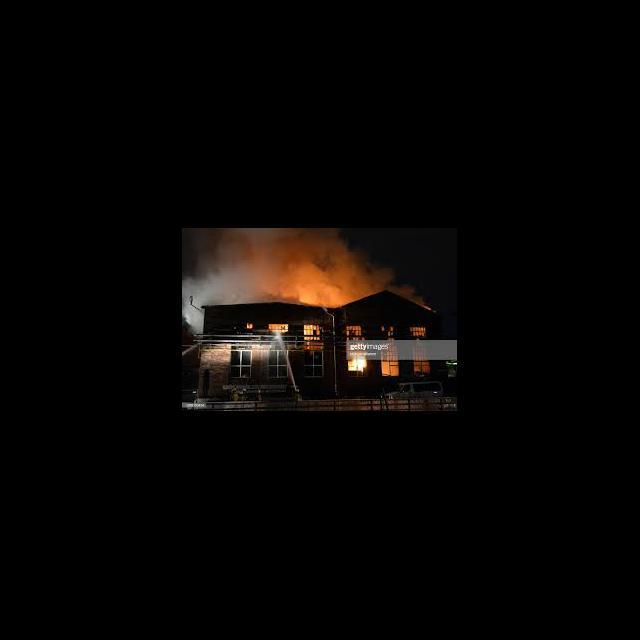Fire: (348, 358, 368, 377)
Smoke: (184, 230, 440, 312)
